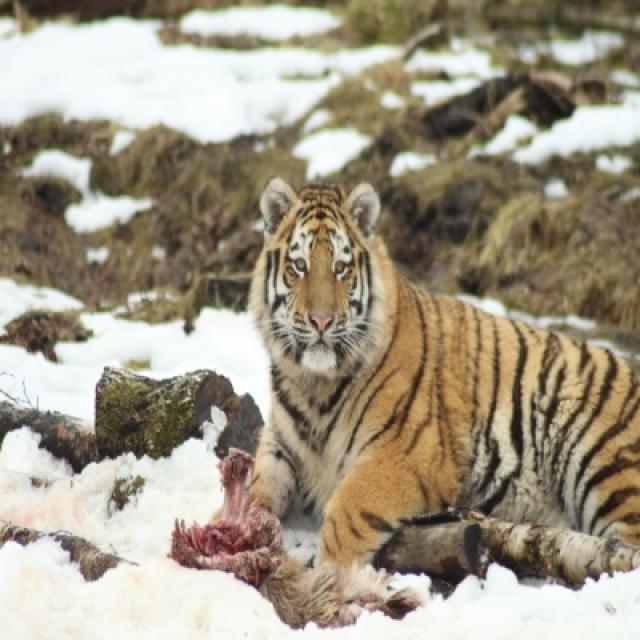Tiger: (248, 178, 638, 608)
